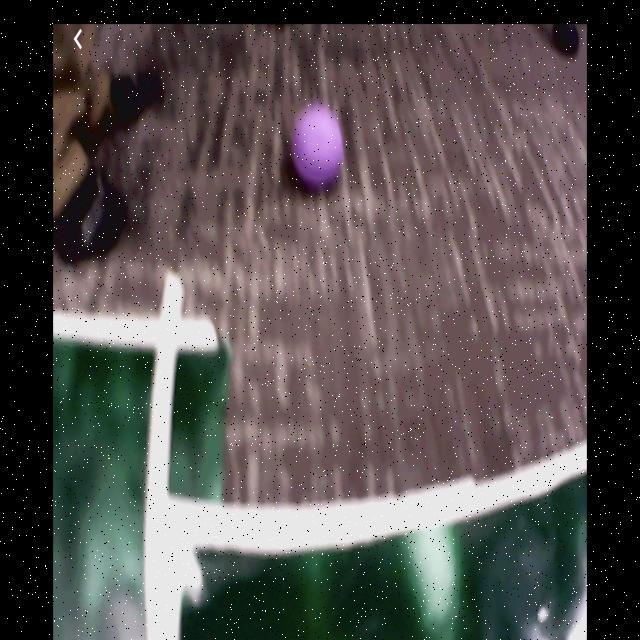ball: (294, 104, 343, 185)
